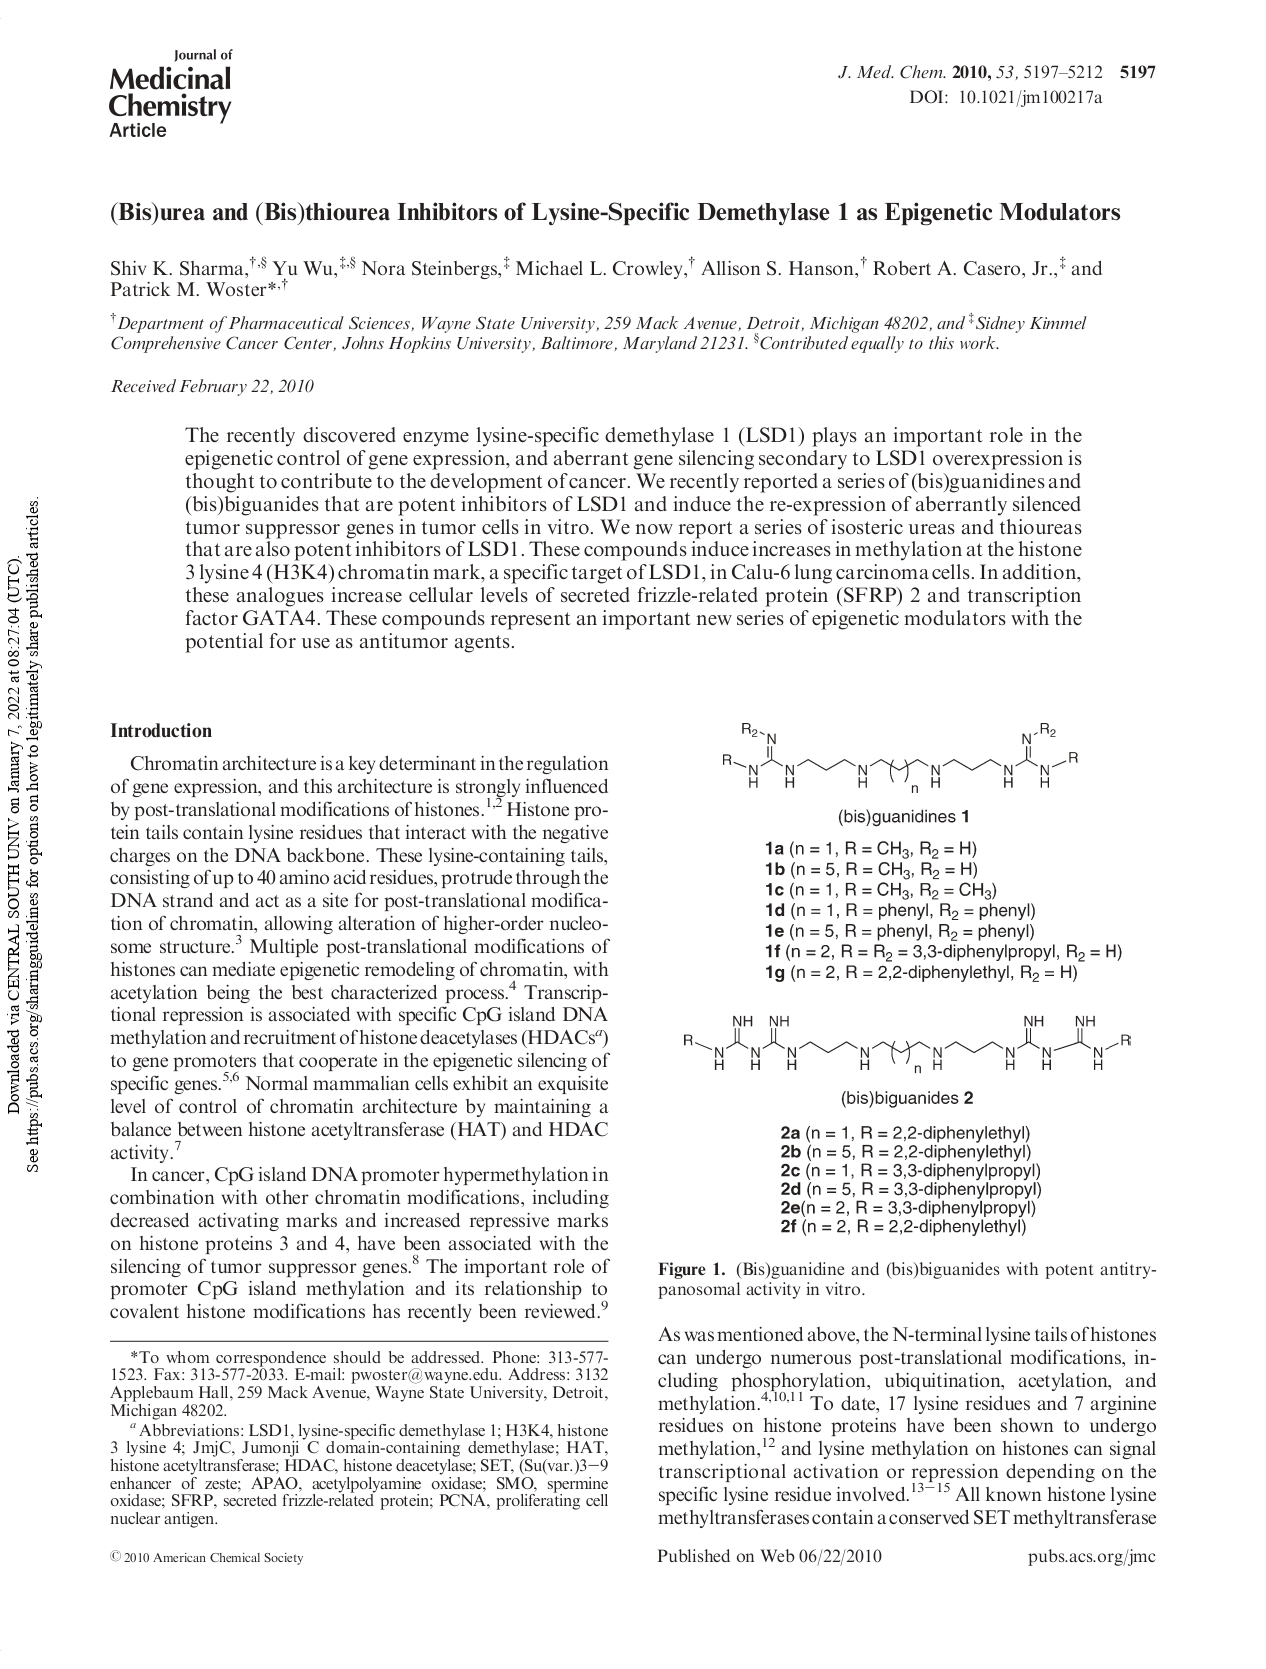exist_molecular: (676, 1007, 1138, 1087), (719, 709, 1086, 791)
